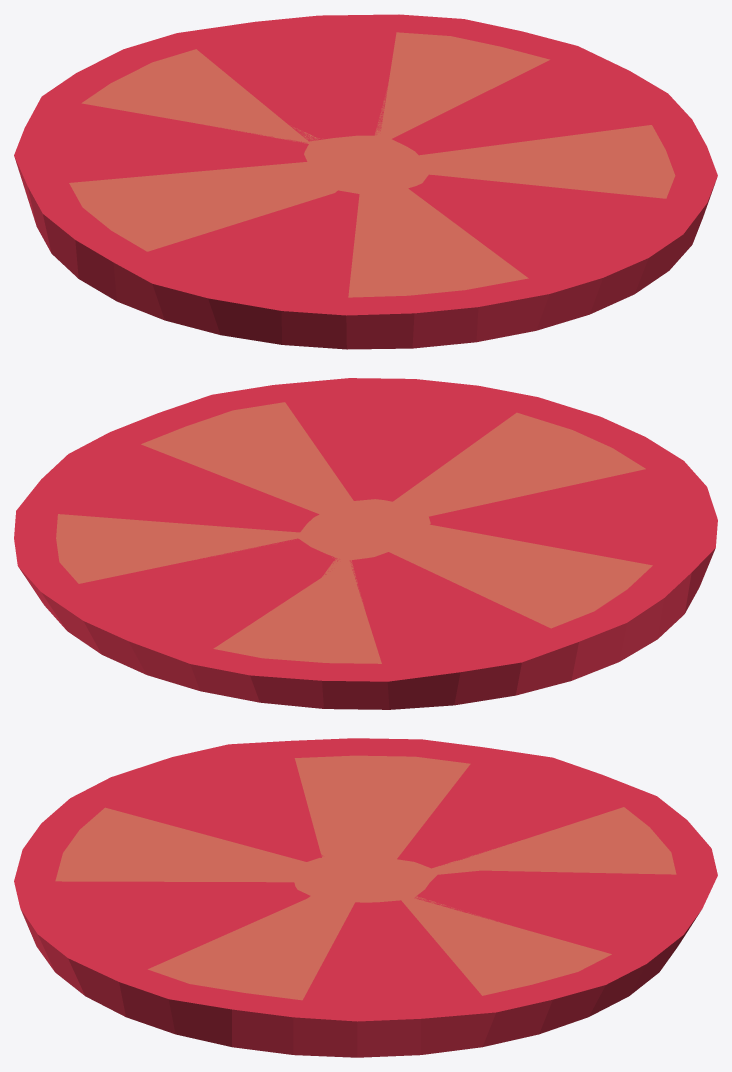
The model's file is Tomato.fbx.
3 views of the same model, one above another, from view 1: azimuth 30°, elevation 25°; view 2: azimuth 150°, elevation 25°; view 3: azimuth 270°, elevation 25° (orthographic). The views are drawn at different scales.
Parts seen in each view (by area): view 1: Tomato; view 2: Tomato; view 3: Tomato.
Boxes of the visible parts, left/top/right/bottom form: Tomato: left=14, top=14, right=717, bottom=349; Tomato: left=14, top=378, right=717, bottom=709; Tomato: left=14, top=738, right=717, bottom=1057.
Bounding box in the file's own units: 263 × 17.62 × 276.
